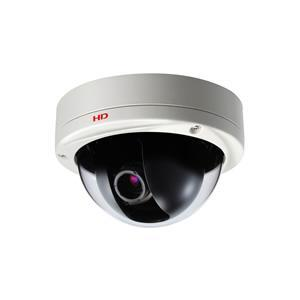maru: (51, 68, 257, 232)
